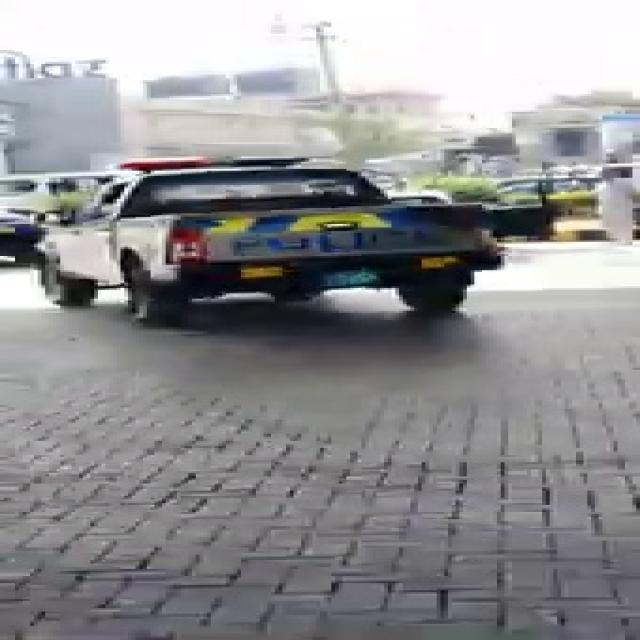police: (18, 105, 567, 322)
